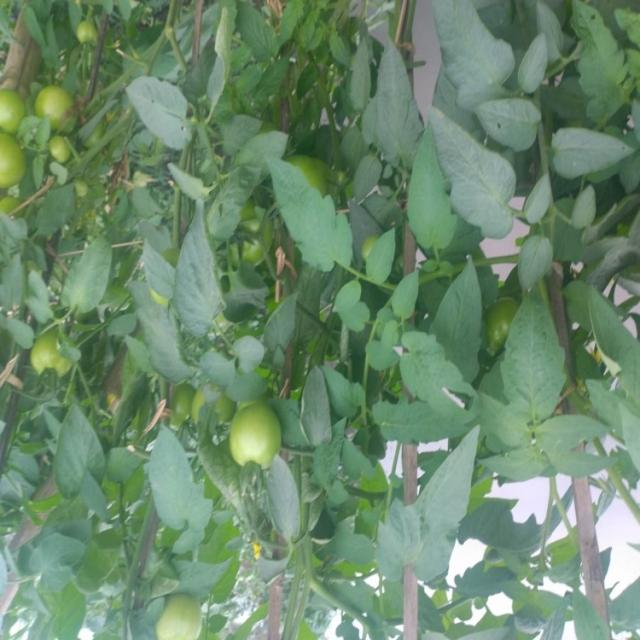tomato: (221, 401, 292, 472), (220, 207, 274, 273), (23, 328, 82, 387), (152, 595, 214, 640), (1, 127, 36, 196), (291, 152, 335, 198), (32, 82, 76, 126), (1, 88, 25, 132), (49, 138, 74, 163)
